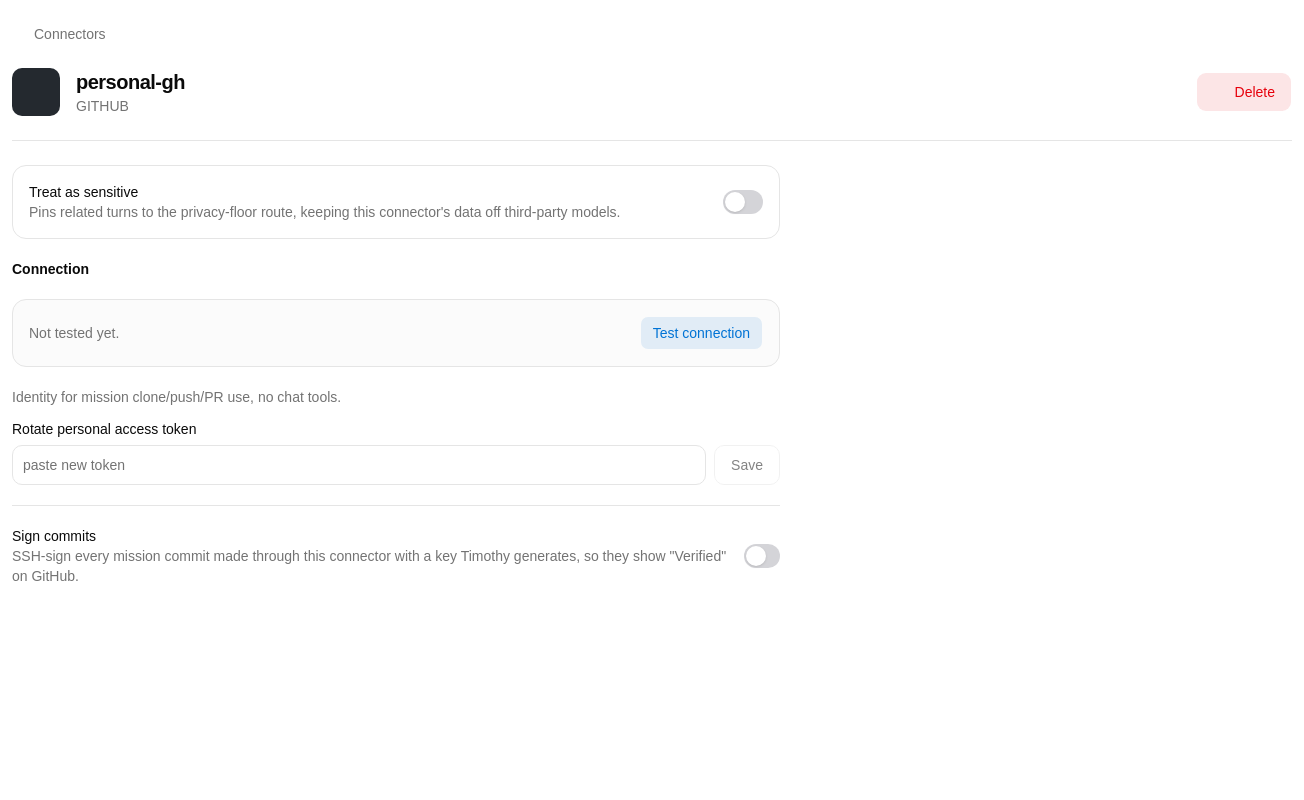
Scenario: Connectors tab › keeps the plain Test connection button for a non-google connector test failure
Click the button "Test connection". click: {"x": 701, "y": 333}
box: [640,316,763,350]
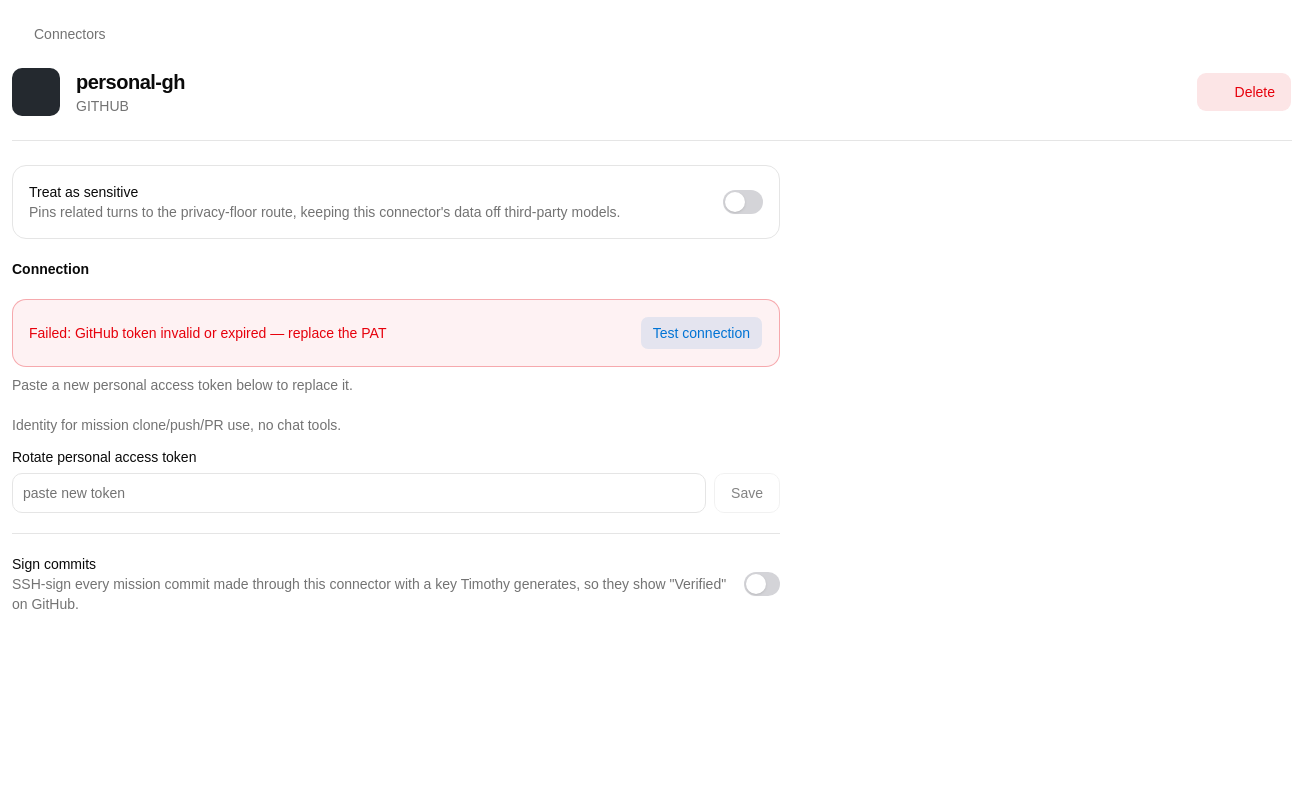
Expected: the text "Failed: GitHub token invalid or expired — replace the PAT" is shown, [29,325,386,341]
Expected: the text "Paste a new personal access token below to replace it." is shown, [12,377,353,393]
